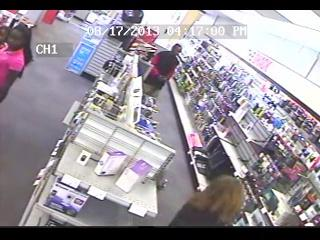Normal: (169, 176, 247, 226), (0, 22, 33, 103), (142, 44, 182, 98)
